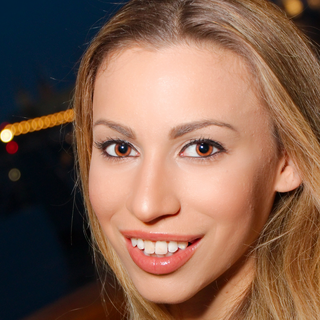eye: (178, 135, 227, 163), (98, 135, 139, 164)
